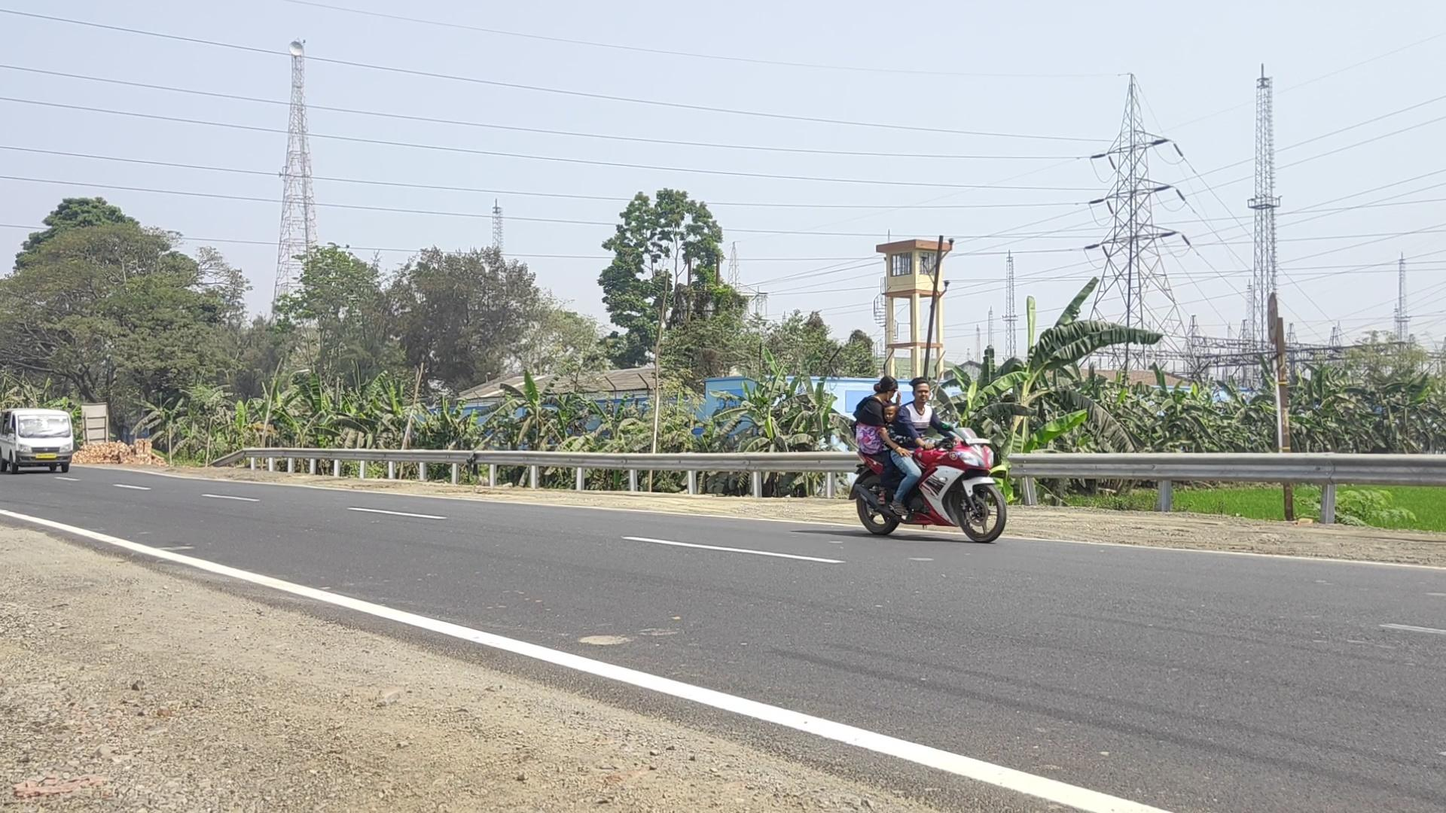bike: (849, 376, 1006, 544)
van: (1, 407, 74, 474)
